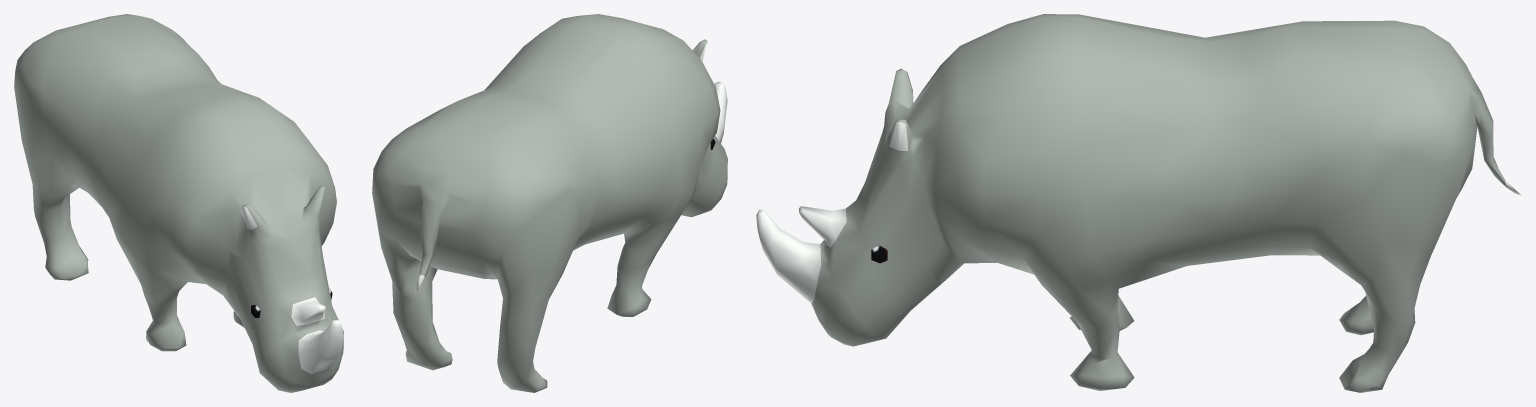
3 renders of one model, left to right at view 1: azimuth 30°, elevation 25°; view 2: azimuth 150°, elevation 25°; view 3: azimuth 270°, elevation 25°, orthographic. The views are drawn at different scales.
Visible parts, largest first — view 1: Rhino; view 2: Rhino; view 3: Rhino.
Boxes of the visible parts, bbox=[...] form: Rhino: bbox=[14, 14, 343, 392]; Rhino: bbox=[372, 14, 727, 392]; Rhino: bbox=[756, 14, 1520, 392].
Size of what is drawn, in the model's own units: 1.2 by 1.54 by 3.26.
1 material, 1 textured.
